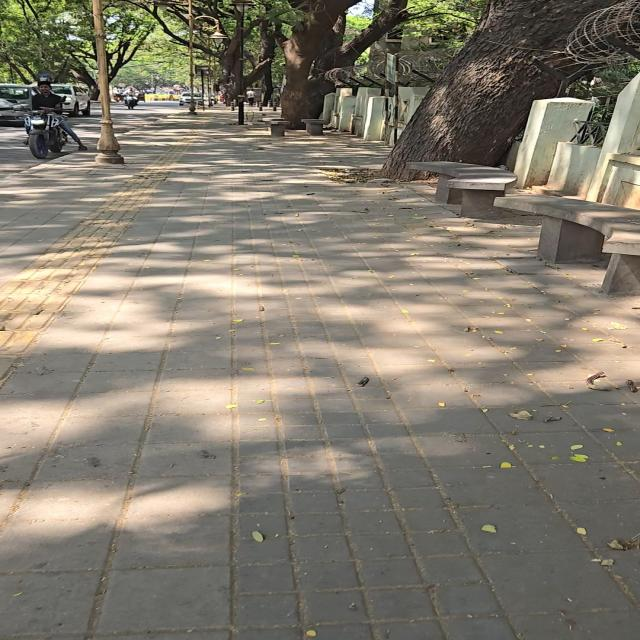obstacle: (383, 0, 616, 179), (281, 0, 409, 127), (495, 196, 639, 294), (408, 162, 516, 217), (92, 0, 124, 164), (188, 0, 196, 115), (238, 7, 244, 124), (264, 118, 289, 136), (302, 119, 327, 136), (207, 55, 212, 107), (201, 69, 205, 110)
